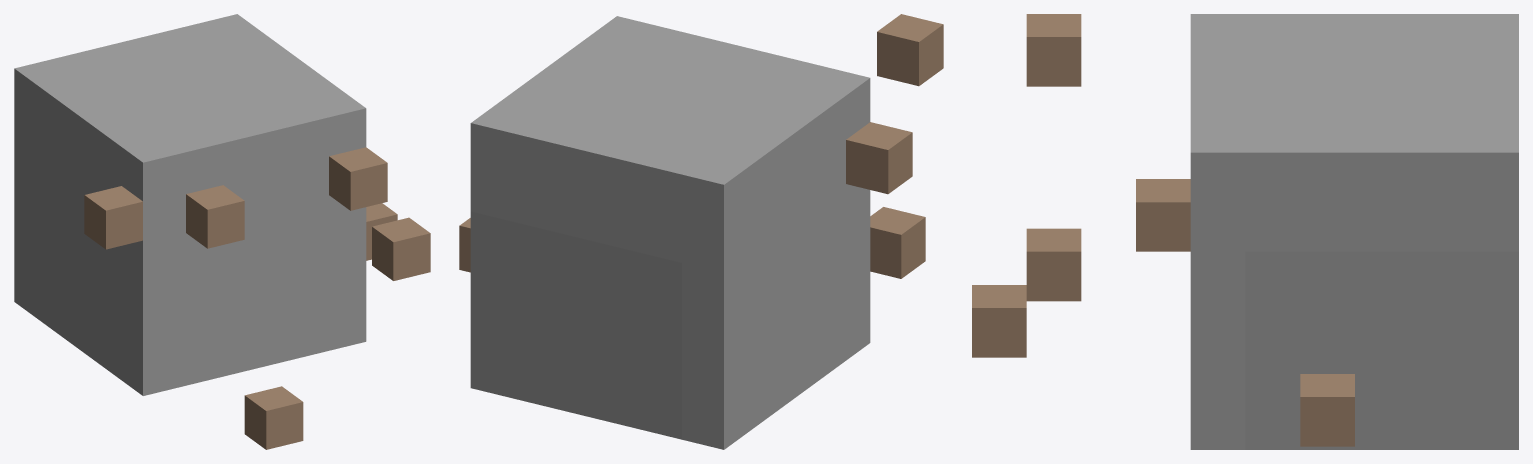
File: veta_hierro_04.glb
3 renders of one model, left to right at view 1: azimuth 30°, elevation 25°; view 2: azimuth 150°, elevation 25°; view 3: azimuth 270°, elevation 25°, orthographic. The views are drawn at different scales.
Parts seen in each view (by area): view 1: veta_hierro_04; view 2: veta_hierro_04; view 3: veta_hierro_04.
Part boxes in pixels (x1,y1,x2,y2): veta_hierro_04: [14, 14, 430, 449]; veta_hierro_04: [459, 14, 943, 449]; veta_hierro_04: [972, 14, 1518, 449].
Bounding box in the file's own units: 0.9 × 0.6 × 1.
